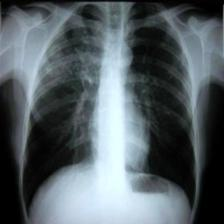tuberculosis: (16, 3, 201, 224)
